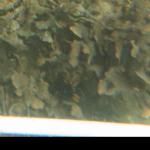alive: (2, 3, 147, 128)
